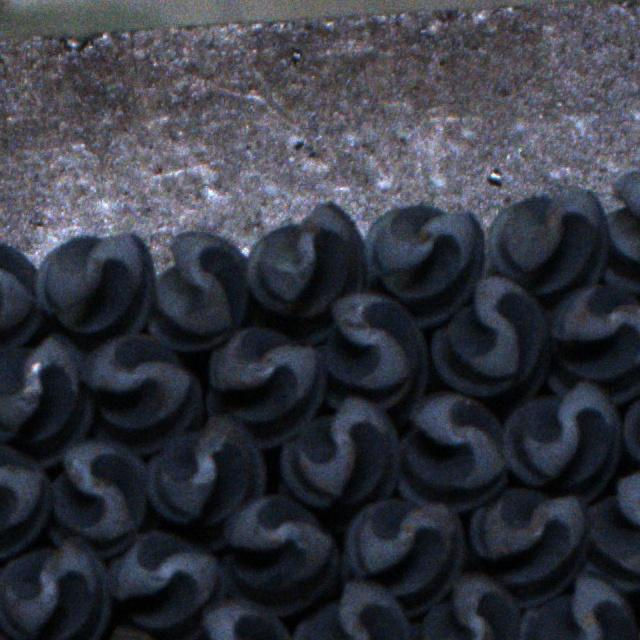tool_b: (248, 204, 368, 345), (143, 416, 265, 552), (428, 277, 549, 411), (312, 292, 426, 429), (281, 394, 400, 522), (501, 379, 623, 503), (362, 208, 486, 328), (79, 332, 203, 452), (218, 496, 342, 616), (208, 326, 328, 446), (345, 499, 466, 617), (467, 491, 588, 608), (486, 186, 609, 301), (396, 391, 509, 509), (35, 233, 156, 343), (107, 530, 224, 638), (0, 334, 93, 468), (147, 232, 250, 351), (46, 440, 150, 557), (544, 286, 640, 406), (0, 539, 111, 640), (518, 577, 638, 640), (411, 573, 523, 640), (289, 583, 413, 640), (584, 473, 640, 594), (0, 436, 50, 560), (176, 598, 290, 640), (603, 172, 640, 300), (0, 240, 42, 349), (616, 373, 640, 500)
